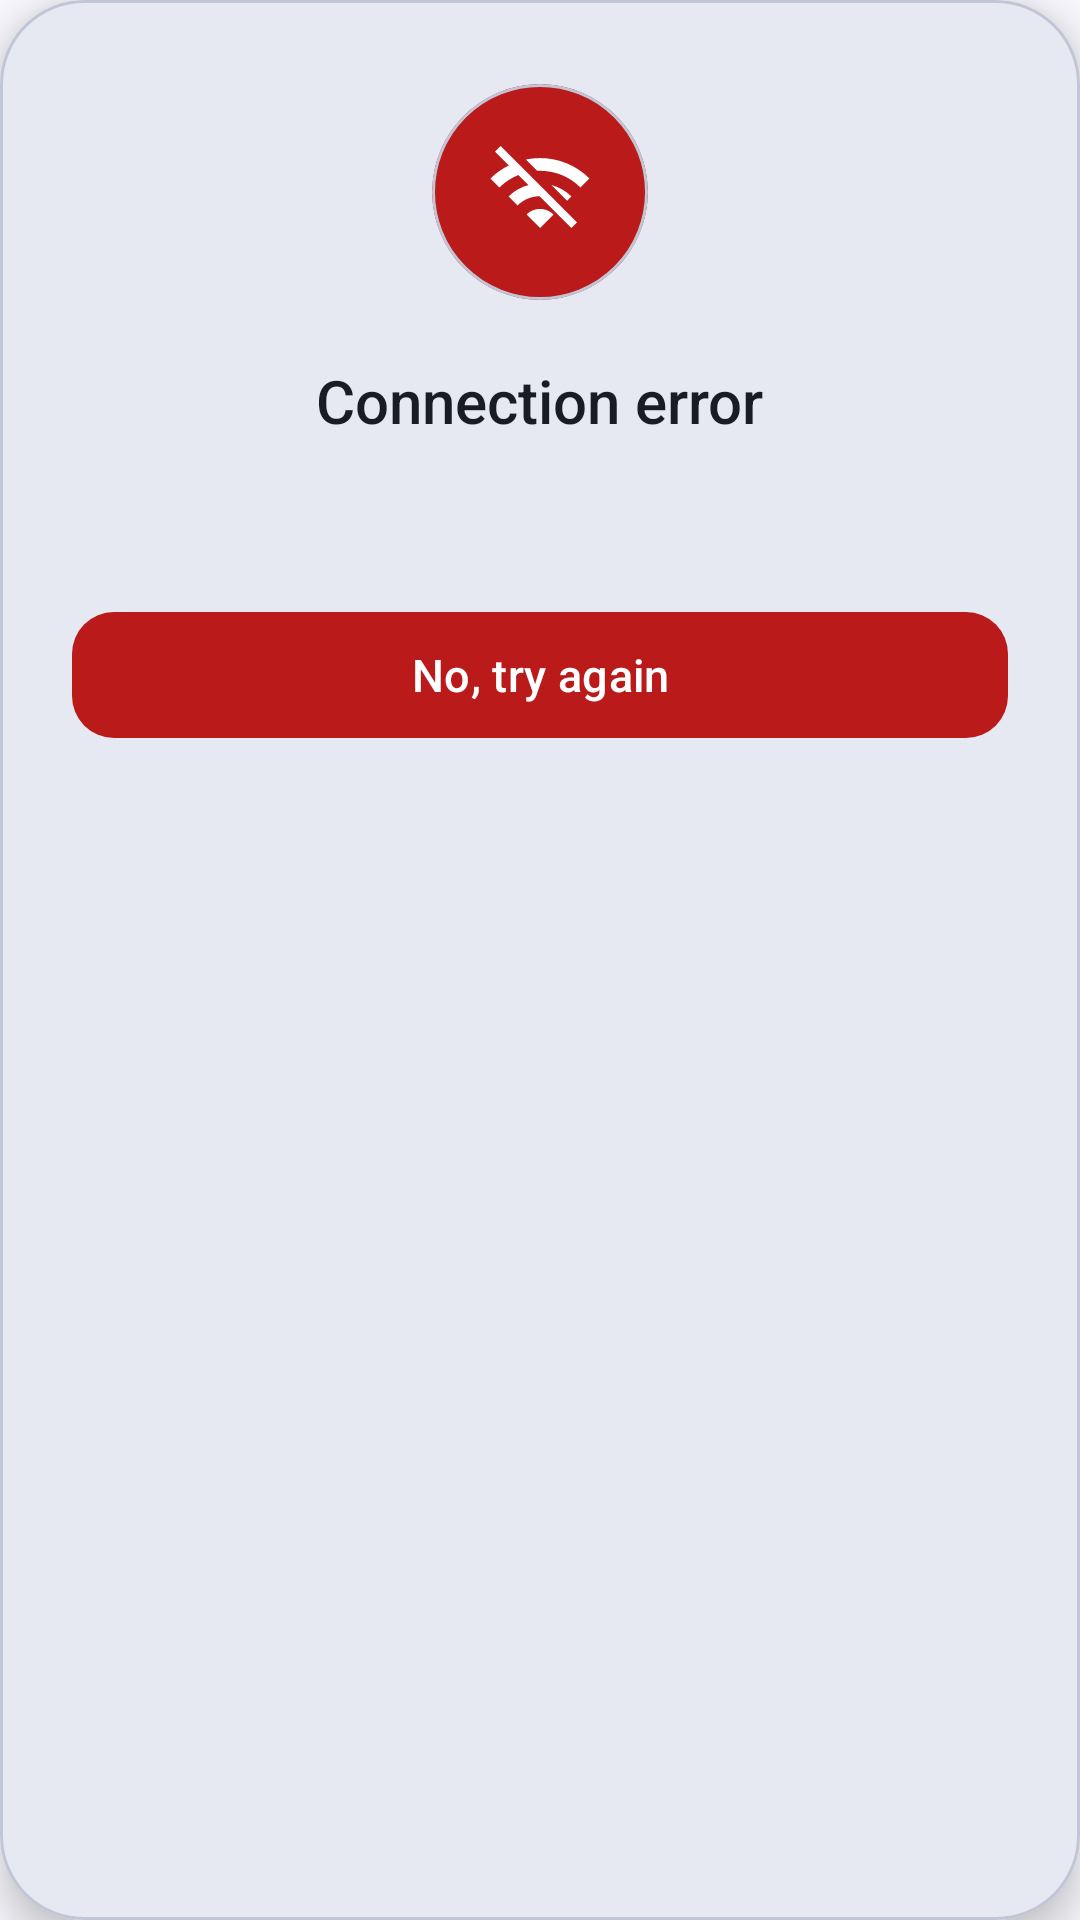

Icons on this 1080x1920 Android screen, each with the point to tap as (x,y):
wifi off: (540,187)
